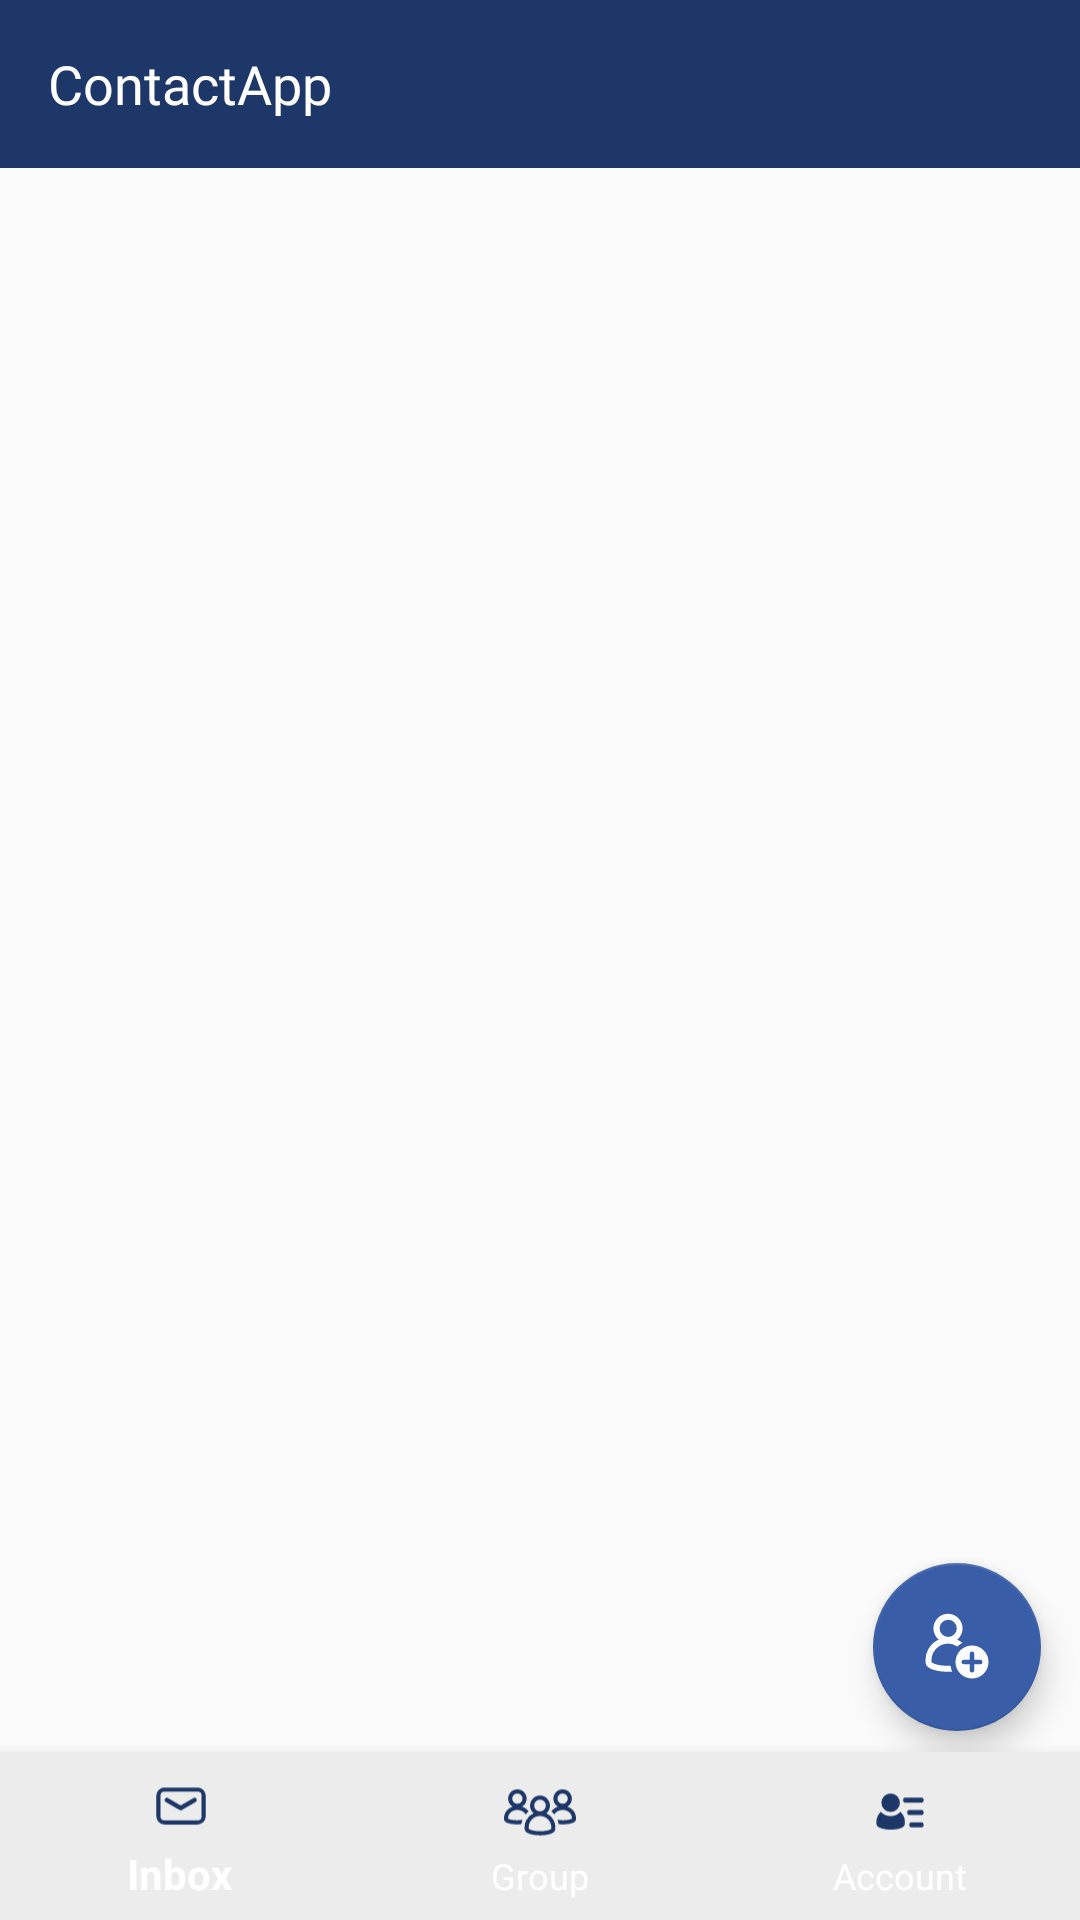

Named icons in this screenshot (1080 × 1920) and their bounding boxes, {"x1": x1, "y1": y1, "x2": x2, "y2": y2}:
contact add: {"x1": 873, "y1": 1563, "x2": 1041, "y2": 1731}
